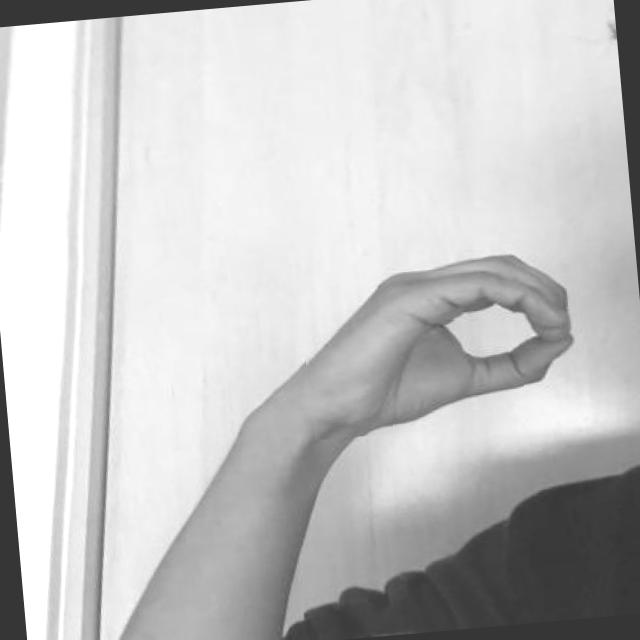O: (295, 240, 591, 440)
